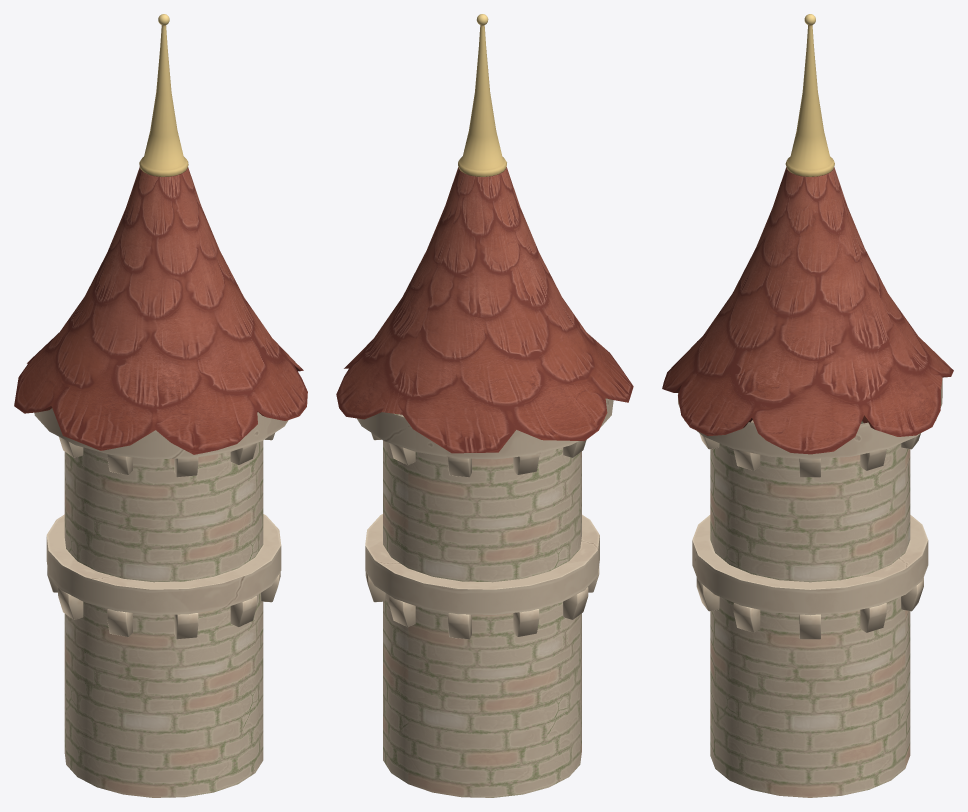
File: Side 1.fbx
3 renders of one model, left to right at view 1: azimuth 30°, elevation 25°; view 2: azimuth 150°, elevation 25°; view 3: azimuth 270°, elevation 25°, orthographic.
Visible parts, largest first — view 1: Cylinder002, Cone001, Shape005, Top_02_low; view 2: Cylinder002, Cone001, Shape005, Top_02_low; view 3: Cylinder002, Cone001, Shape005, Top_02_low.
Part boxes in pixels (bbox=[...]): Cylinder002: bbox=[64, 440, 263, 797]; Cone001: bbox=[14, 167, 307, 454]; Shape005: bbox=[34, 408, 288, 614]; Top_02_low: bbox=[47, 14, 280, 639]; Cylinder002: bbox=[383, 413, 581, 797]; Cone001: bbox=[336, 167, 633, 453]; Shape005: bbox=[357, 398, 613, 614]; Top_02_low: bbox=[365, 14, 599, 639]; Cylinder002: bbox=[710, 420, 910, 797]; Cone001: bbox=[662, 167, 953, 454]; Shape005: bbox=[678, 378, 942, 615]; Top_02_low: bbox=[696, 14, 923, 639].
Size of the model in its own units: 4978 by 13700 by 4889.
